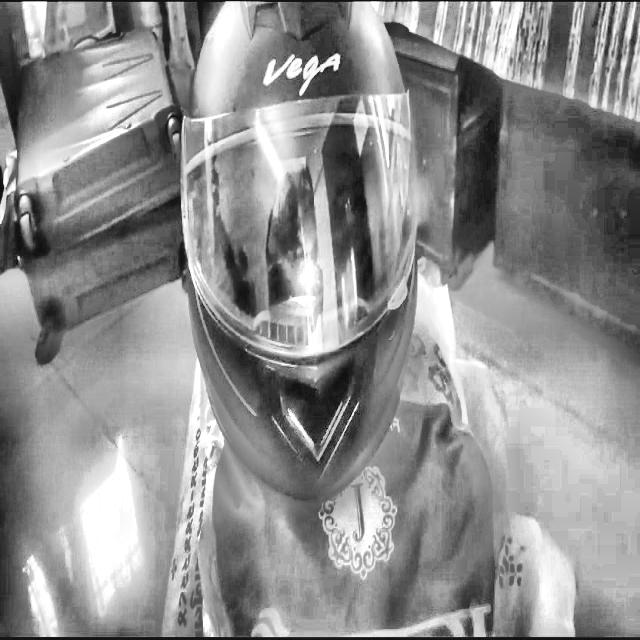Helmet: (179, 3, 430, 502)
